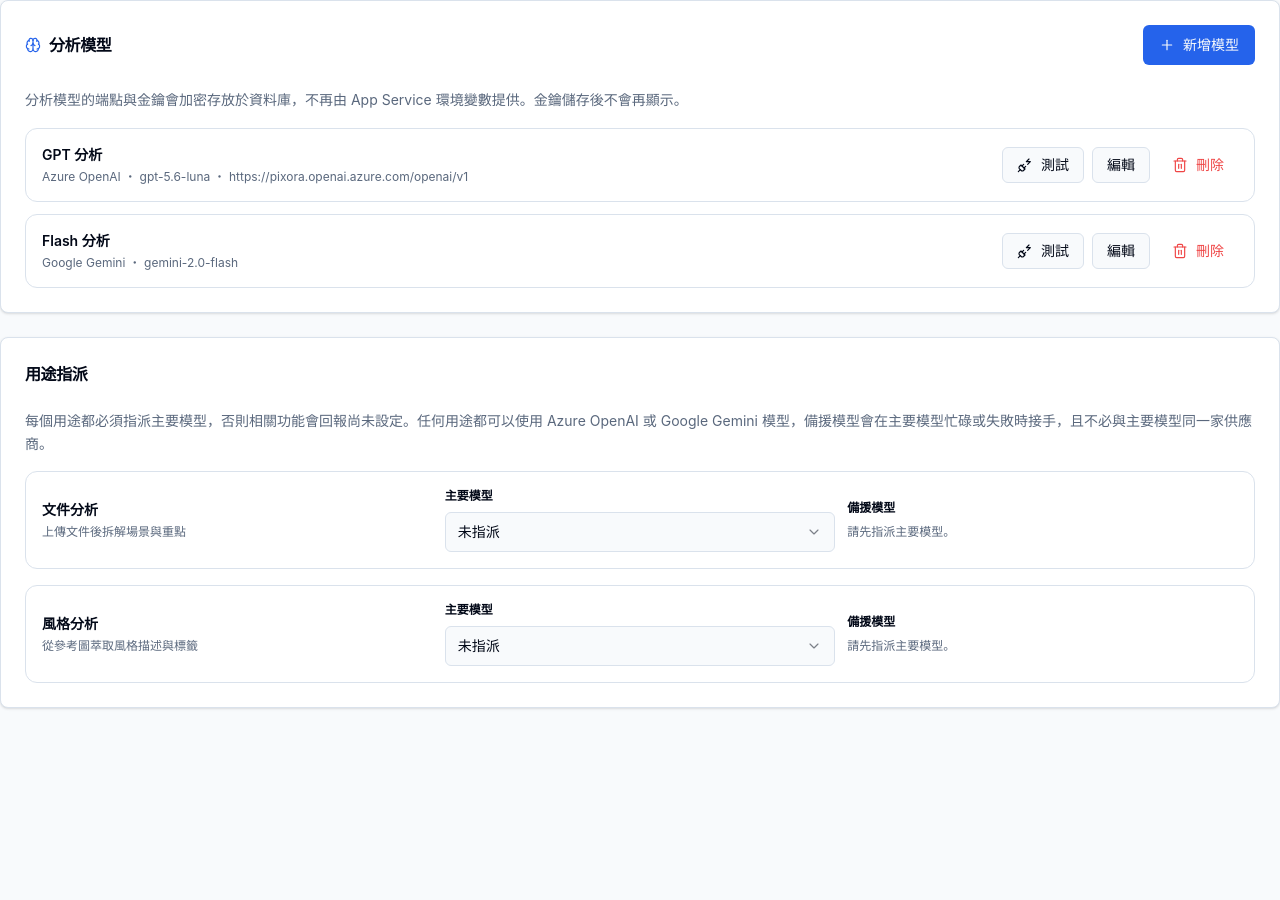
LlmModelSettings › reports a delete that the backend rejects
Expected: the text "GPT 分析" is shown, [42,146,102,163]
Click the button "刪除" in the row of "GPT 分析" at (1198,165), box [1158,147,1238,183]
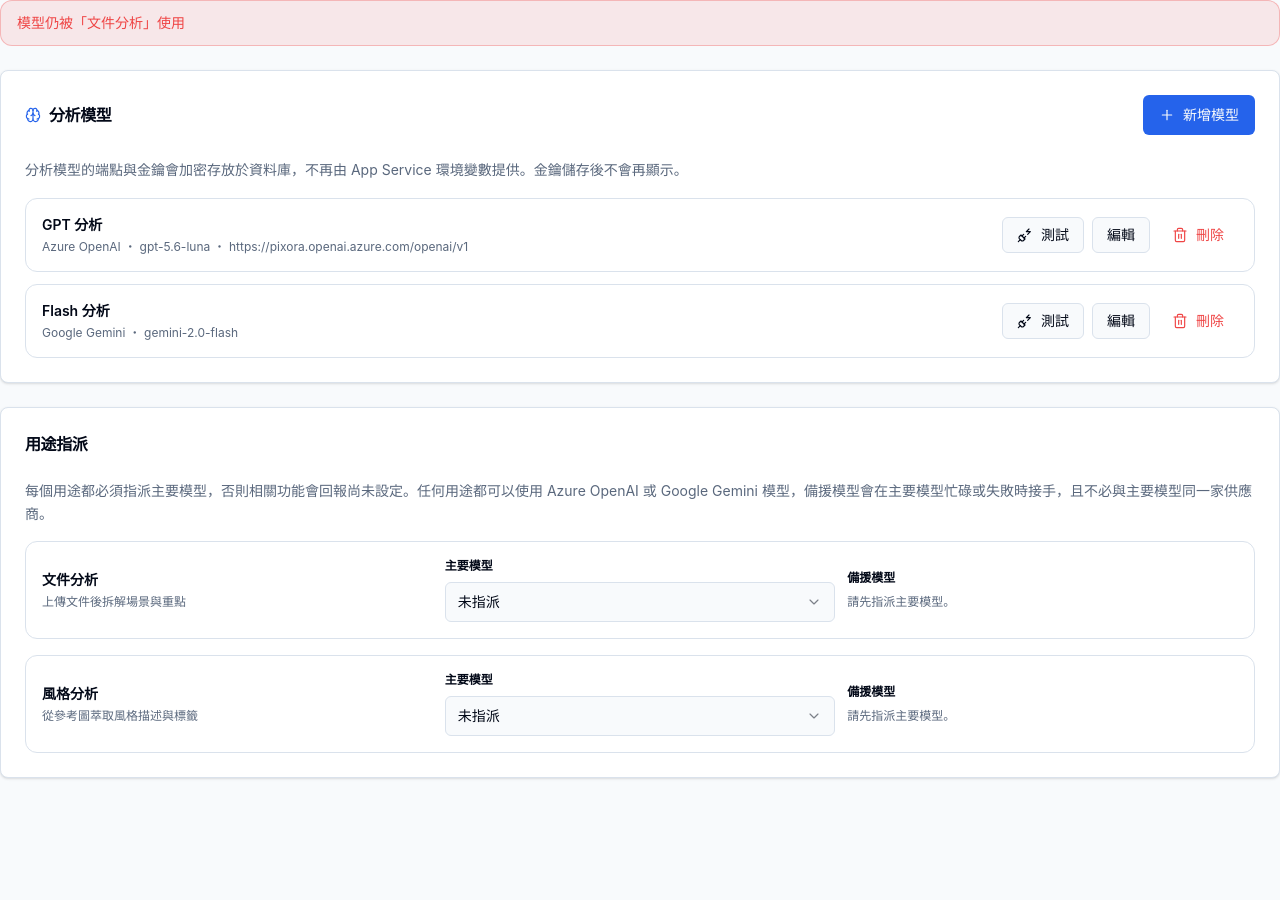
Result: the message reads "模型仍被「文件分析」使用" at [17,14,185,31]
